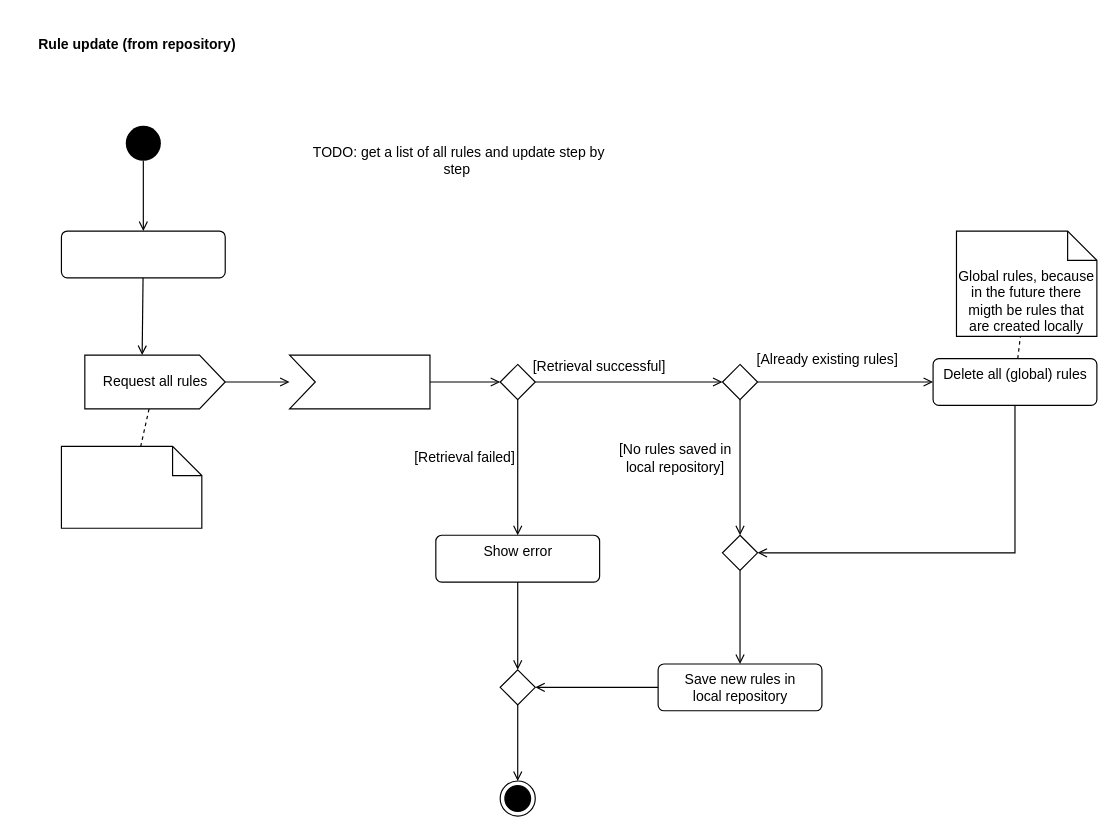
The diagram is 1117 pixels wide and 837 high, and some of its shapes have lost their labels. The box of each missing label's shape, as (x1, y1, x2, y2) in pixels:
Communication with rule repository: (60, 445, 202, 528)
Press update rules button: (60, 230, 225, 278)
Receive rules: (288, 354, 430, 409)
